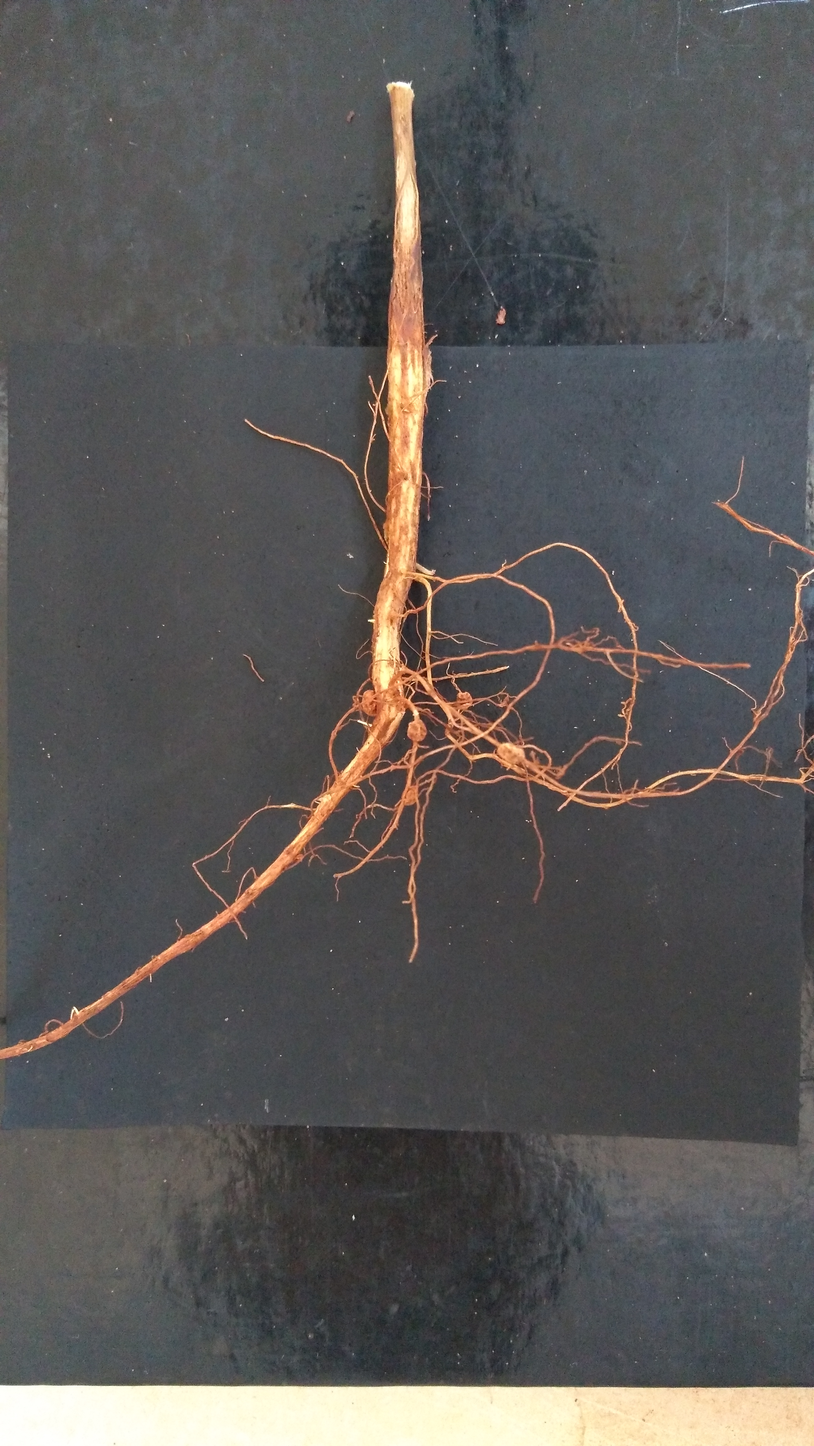nodule: (497, 743, 525, 764), (407, 720, 427, 741), (362, 690, 376, 716), (456, 691, 473, 710), (404, 786, 418, 806), (387, 684, 401, 700), (297, 854, 303, 859)
